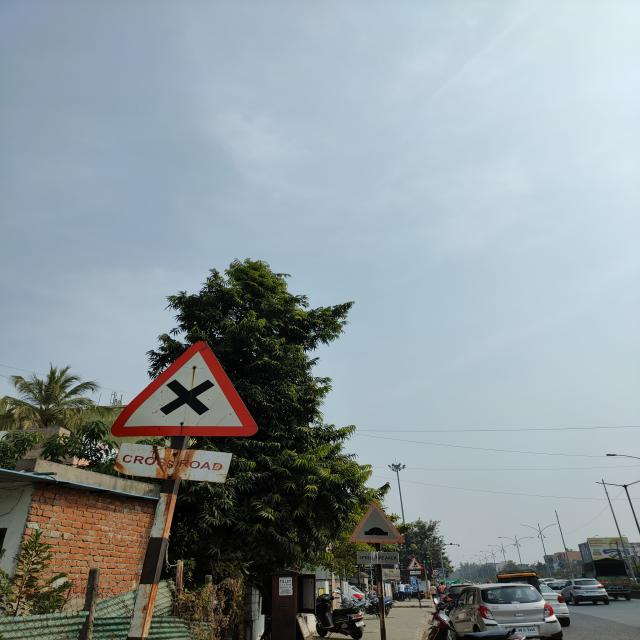cross_road: (109, 338, 268, 438)
